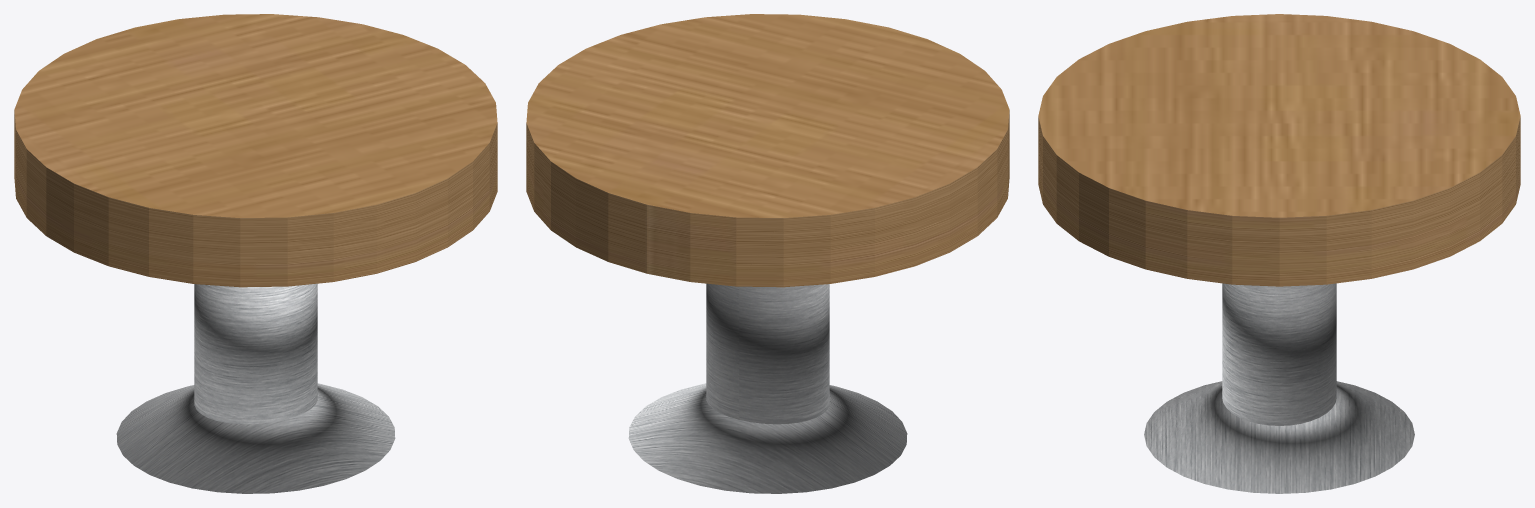
File: Kitchen Stool.fbx
3 views of the same model, side by side, from view 1: azimuth 30°, elevation 25°; view 2: azimuth 150°, elevation 25°; view 3: azimuth 270°, elevation 25° (orthographic).
Visible parts, largest first — view 1: Cylinder.001, Cone; view 2: Cylinder.001, Cone; view 3: Cylinder.001, Cone.
Boxes of the visible parts, x1=… form: Cylinder.001: x1=14, y1=14, x2=497, y2=287; Cone: x1=116, y1=283, x2=395, y2=493; Cylinder.001: x1=526, y1=14, x2=1009, y2=287; Cone: x1=628, y1=283, x2=907, y2=493; Cylinder.001: x1=1038, y1=14, x2=1520, y2=286; Cone: x1=1144, y1=283, x2=1414, y2=493.
Bounding box in the file's own units: 0.5261 × 0.3837 × 0.5261.
